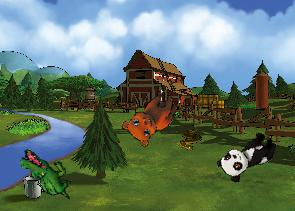bear: (117, 81, 182, 151)
crocodile: (12, 147, 80, 201)
panda: (214, 125, 281, 186)
